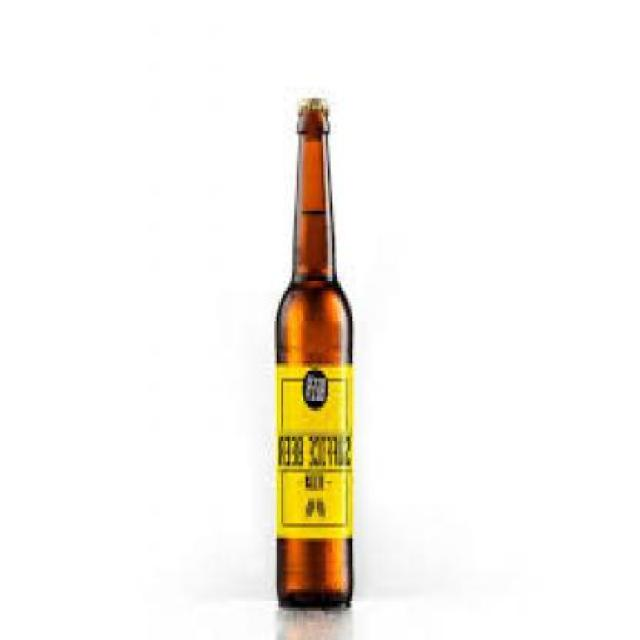GLASS: (278, 105, 356, 607)
METAL: (302, 91, 332, 106)
